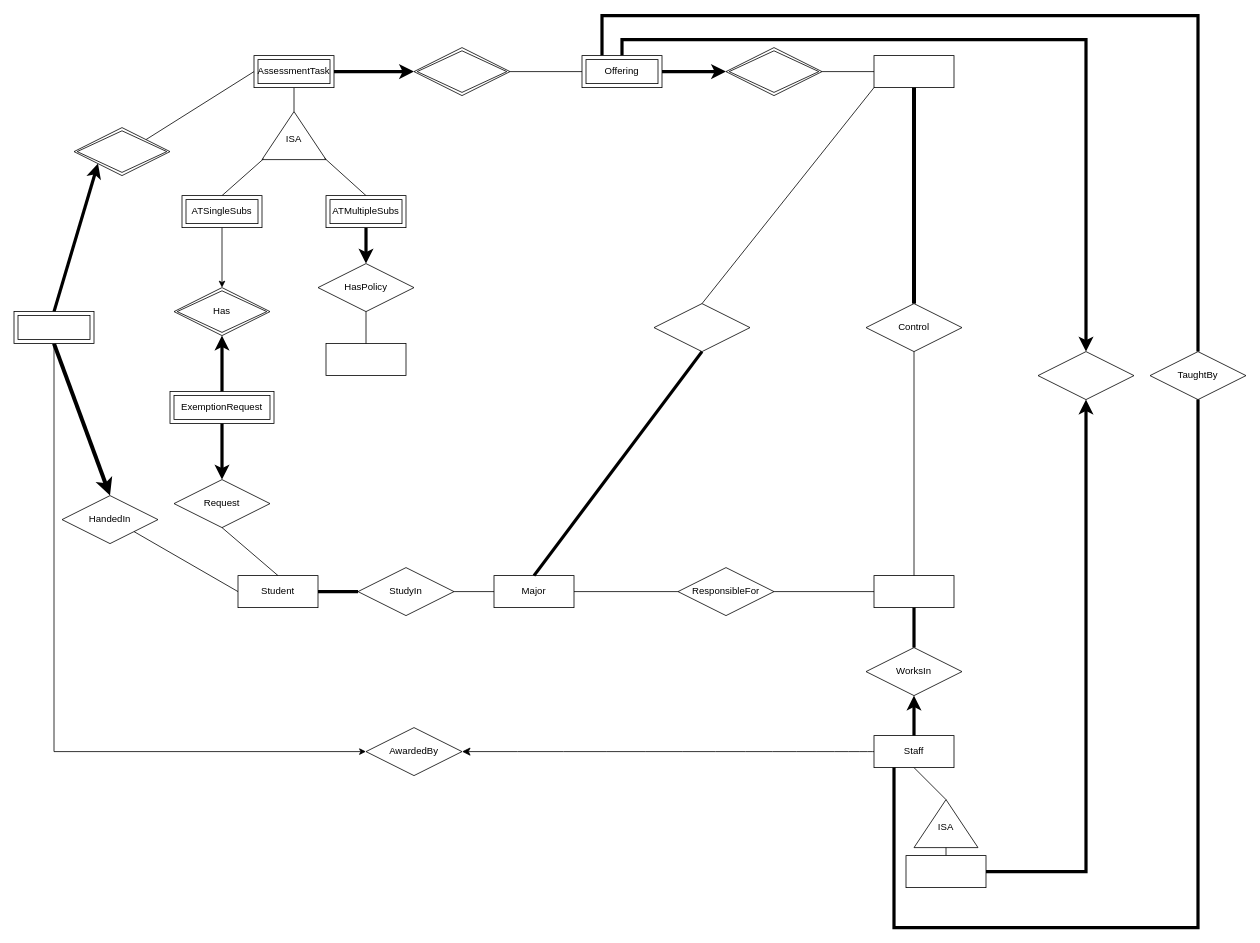
Some shapes in this 1260 by 943 pixel diagram are drawn without their labels. The box of each missing label's shape, as (x1, y1, x2, y2) in pixels:
CoordinatedBy: (1037, 351, 1134, 400)
Coordinator: (905, 855, 986, 888)
CountTowards: (653, 303, 750, 352)
Department: (873, 575, 954, 608)
Occurs: (413, 47, 510, 96)
Policy: (325, 343, 406, 376)
Subject: (873, 55, 954, 88)
Submission: (13, 311, 94, 344)
Submit: (73, 127, 170, 176)
TaughtIn: (725, 47, 822, 96)
